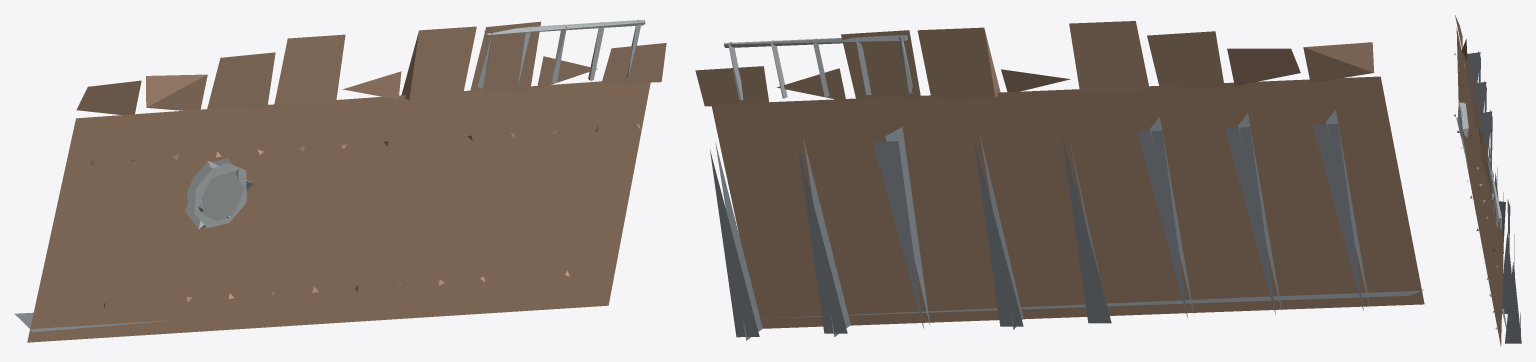
3 views of the same model, side by side, from view 1: azimuth 30°, elevation 25°; view 2: azimuth 150°, elevation 25°; view 3: azimuth 270°, elevation 25° (orthographic). The views are drawn at different scales.
Parts seen in each view (by area): view 1: sea_wreck_hull.001; view 2: sea_wreck_hull.001; view 3: sea_wreck_hull.001.
Boxes of the visible parts, bbox=[...] form: sea_wreck_hull.001: bbox=[14, 20, 666, 342]; sea_wreck_hull.001: bbox=[695, 21, 1424, 340]; sea_wreck_hull.001: bbox=[1453, 15, 1521, 346].
Size of the model in its own units: 11.71 by 6.4 by 2.03.
